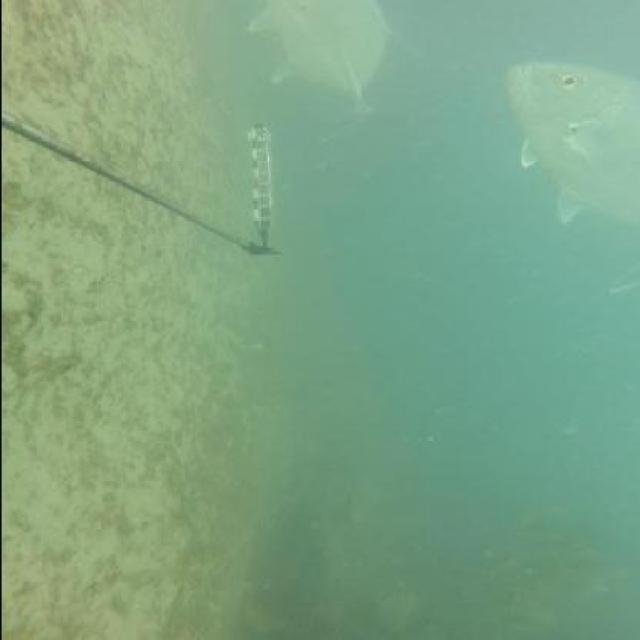Caranx: (504, 60, 640, 297), (246, 0, 405, 151)
